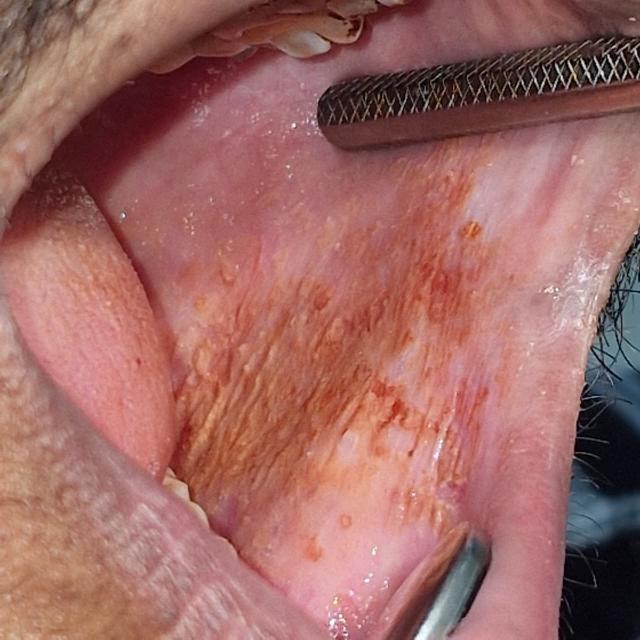leukoplakia-detection: (151, 140, 527, 639)
processing_area: (0, 0, 640, 640)
